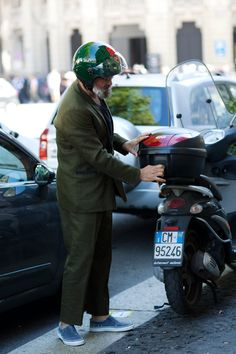helmet: (62, 36, 132, 100)
